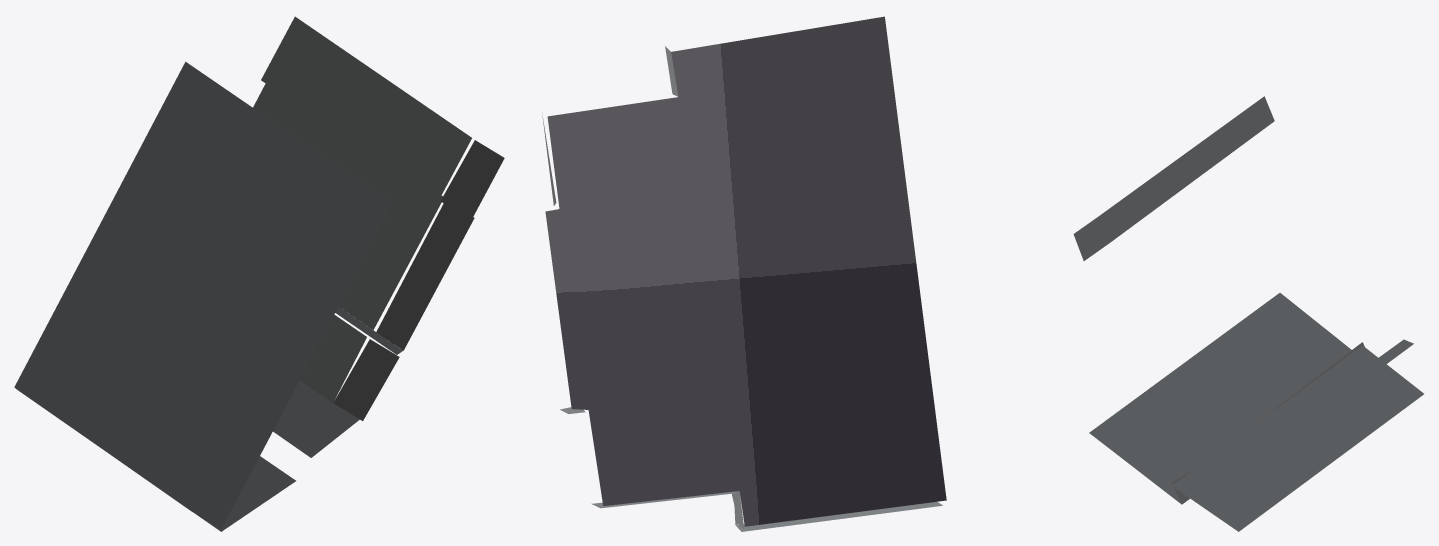
Rendered from tile_LOD3_r2_c2.glb.
3 renders of one model, left to right at view 1: azimuth 30°, elevation 25°; view 2: azimuth 150°, elevation 25°; view 3: azimuth 270°, elevation 25°, orthographic. The views are drawn at different scales.
Size of the model in its own units: 44.75 by 46.5 by 43.5.
5 materials, 3 textured.
